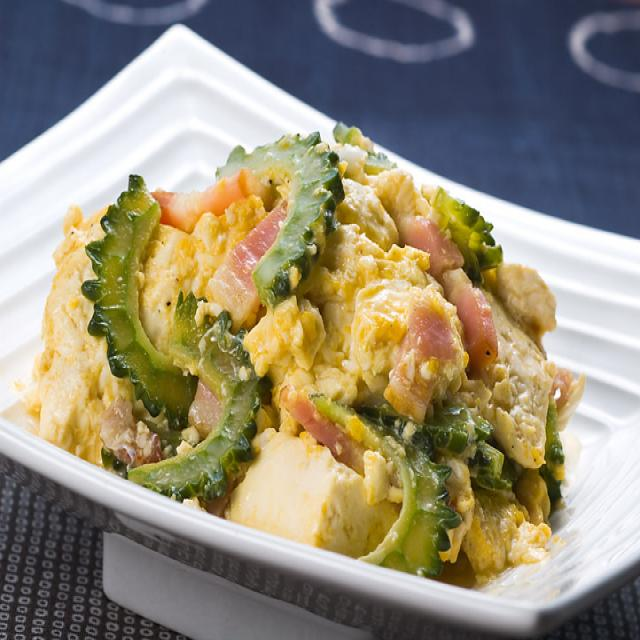熟制海鲜: (0, 26, 640, 640)
